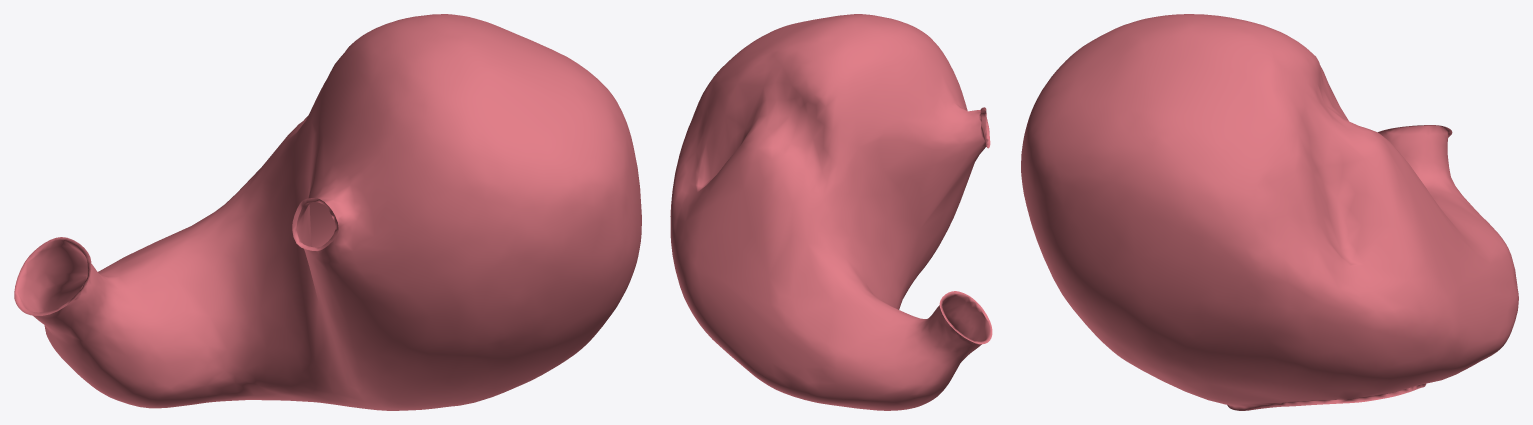
3 views of the same model, side by side, from view 1: azimuth 30°, elevation 25°; view 2: azimuth 150°, elevation 25°; view 3: azimuth 270°, elevation 25° (orthographic). The views are drawn at different scales.
Parts seen in each view (by area): view 1: 胃黏膜; view 2: 胃黏膜; view 3: 胃黏膜.
Boxes of the visible parts, bbox=[...] form: 胃黏膜: bbox=[14, 14, 641, 410]; 胃黏膜: bbox=[670, 14, 992, 410]; 胃黏膜: bbox=[1021, 14, 1518, 410].
Bounding box in the file's own units: 0.1962 × 0.1522 × 0.1819.
